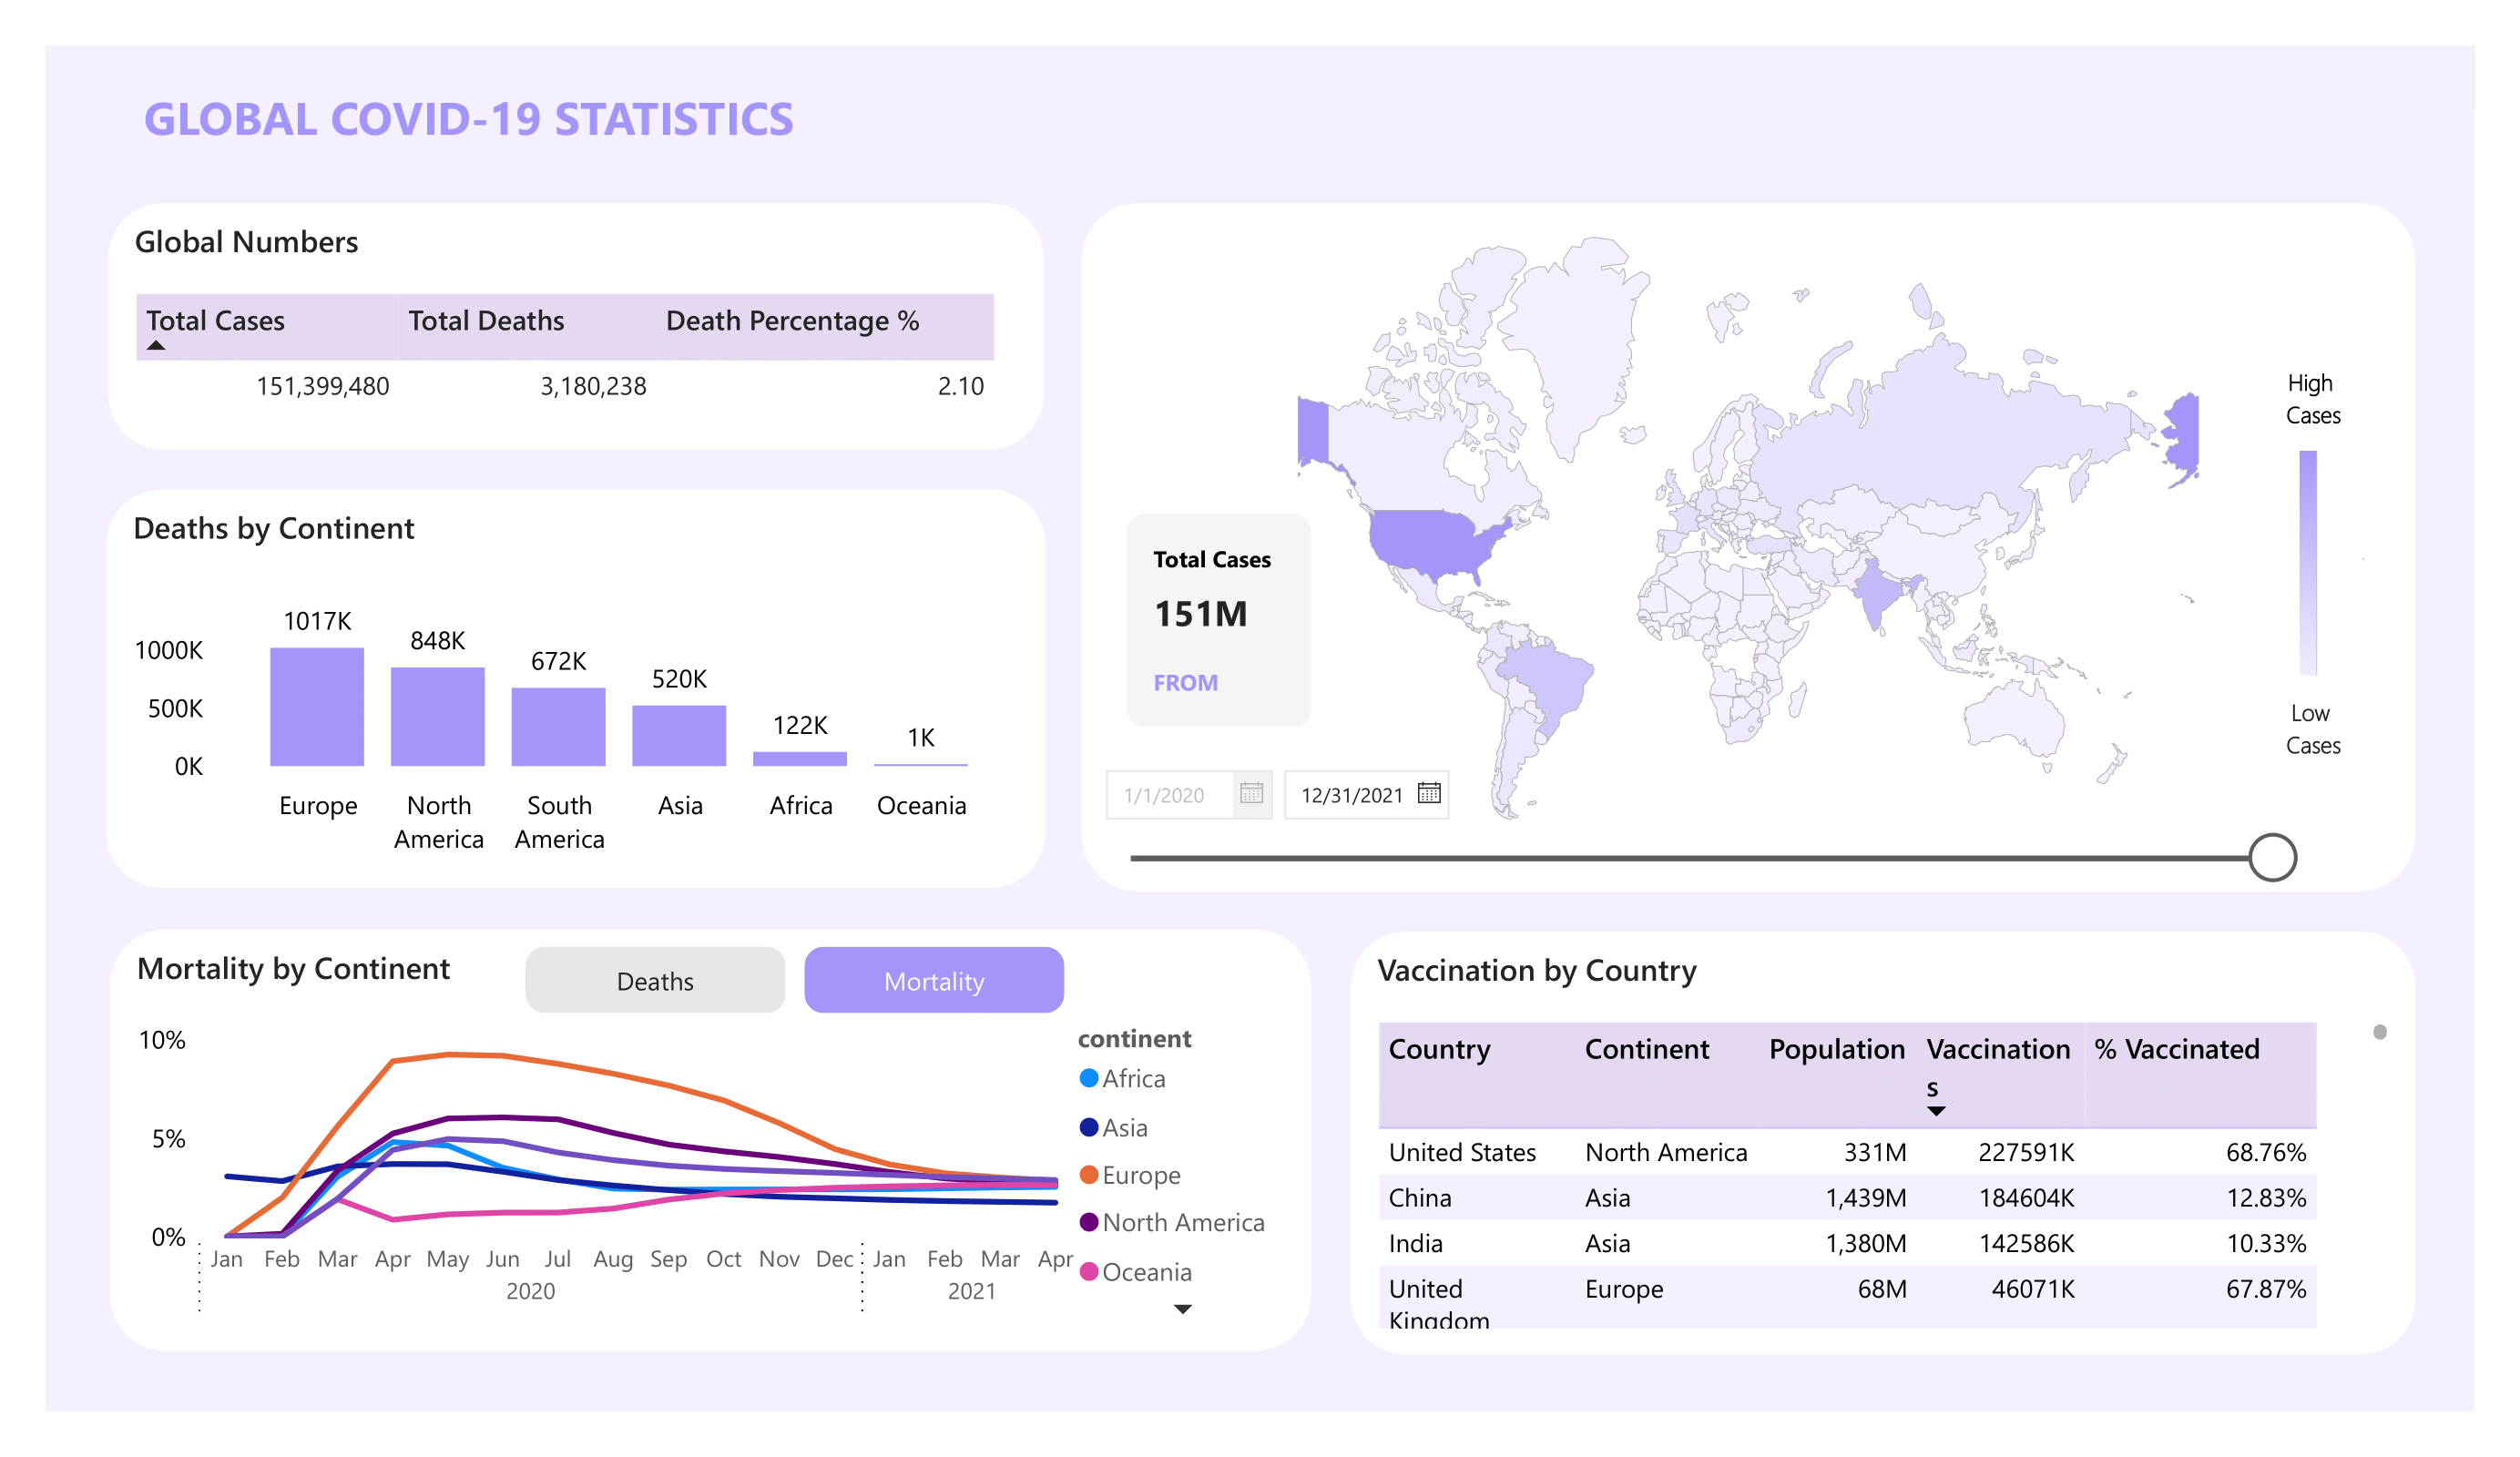

Layout of this report page (visuals, bound fields, positions):
{"tool":"powerbi","page":{"name":"Page 1","canvas":[1280,720],"ordinal":0},"visuals":[{"type":"textbox","box":[46.7,16.5,397.9,52.1],"z":0},{"type":"tableEx","title":"All-time Global Numbers","fields":{"Values":["Global_Numbers.Total_case","Global_Numbers.Total_deaths","Global_Numbers.Deaths_percent"]},"box":[31.6,82.3,495.4,131.7],"z":1000},{"type":"columnChart","title":"Deaths by Continent","fields":{"Category":["InfectionByContinent.continent"],"Y":["Max(InfectionByContinent.Total_Deaths_Continent)"]},"box":[31.2,232.5,496.2,212.5],"z":2000},{"type":"lineChart","title":"Case Trend by Continent","fields":{"Series":["InfectionByContinent.continent"],"Y":["Max(InfectionByContinent.Total_Cases_Continent)"],"Category":["Date.Date Hierarchy.Year","Date.Date Hierarchy.Month"]},"box":[32.5,465.6,635.2,225],"z":4000},{"type":"bookmarkNavigator","box":[252.6,475.2,283.9,34.9],"z":5000},{"type":"shapeMap","fields":{"Category":["InfectionByLocation.Location"],"Value":["Max(InfectionByLocation.HighestInfectionCount)"]},"box":[546,82.5,702.5,363],"z":6000},{"type":"image","box":[1173.4,209.2,62.5,127.5],"z":7000},{"type":"textbox","box":[1154.9,162.6,81.4,47.1],"z":8000},{"type":"textbox","box":[1154.9,336.9,81.4,47.1],"z":9000},{"type":"slicer","fields":{"Values":["Date.Date"]},"box":[546,372,649,74],"z":10000},{"type":"cardVisual","fields":{"Data":["Max(InfectionByLocation.Global_Total_Cases)"]},"box":[568.8,246.2,98.8,113.8],"z":11000},{"type":"tableEx","title":"Vaccination by Country","fields":{"Values":["PercentPopulationVaccinated.location","PercentPopulationVaccinated.continent","PercentPopulationVaccinated.population","Max(PercentPopulationVaccinated.Rolling_Vaccinations)","Max(PercentPopulationVaccinated.Percent_Vaccinated)"]},"box":[686.9,465.6,563,225],"z":12000}]}

Visuals, with their boxes on the page's 1280x720 design canvas (x1, y1, x2, y2). These are canvas units, not pixel positions in the 2520x1457 screenshot, which may show the page scaled, cropped or inside an application window:
textbox: x1=47, y1=16, x2=445, y2=69
"All-time Global Numbers" tableEx: x1=32, y1=82, x2=527, y2=214
"Deaths by Continent" columnChart: x1=31, y1=232, x2=527, y2=445
"Case Trend by Continent" lineChart: x1=32, y1=466, x2=668, y2=691
bookmarkNavigator: x1=253, y1=475, x2=536, y2=510
shapeMap - InfectionByLocation.Location x Max(InfectionByLocation.HighestInfectionCount): x1=546, y1=82, x2=1248, y2=446
image: x1=1173, y1=209, x2=1236, y2=337
textbox: x1=1155, y1=163, x2=1236, y2=210
textbox: x1=1155, y1=337, x2=1236, y2=384
slicer - Date.Date: x1=546, y1=372, x2=1195, y2=446
cardVisual - Max(InfectionByLocation.Global_Total_Cases): x1=569, y1=246, x2=668, y2=360
"Vaccination by Country" tableEx: x1=687, y1=466, x2=1250, y2=691
